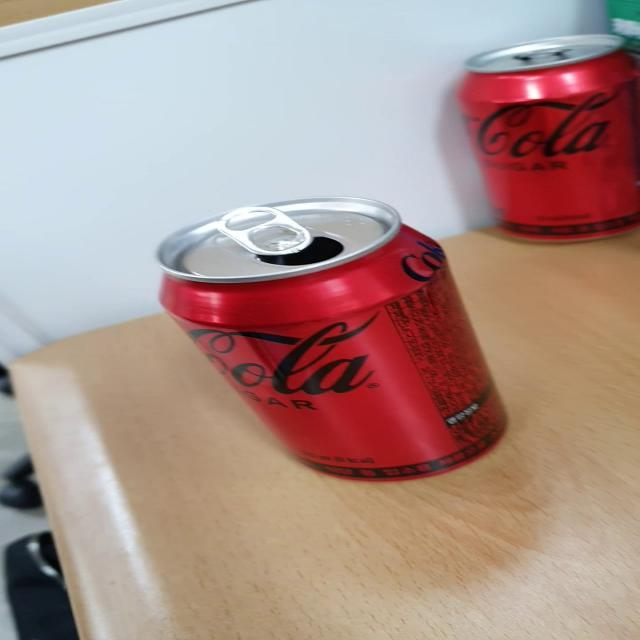coca-cola: (143, 188, 532, 492), (448, 27, 640, 254)
